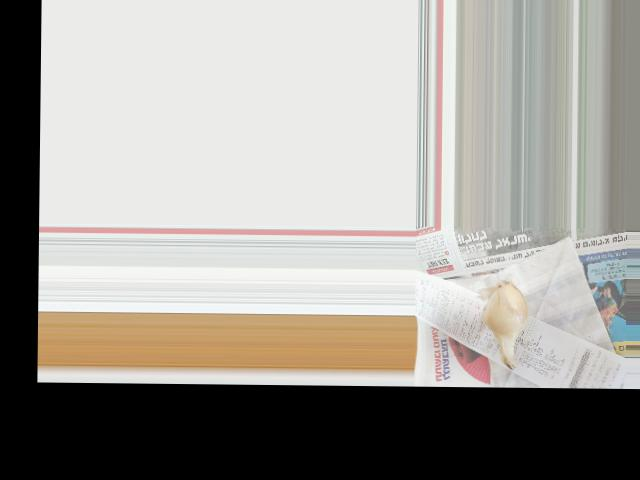onion: (488, 288, 528, 347)
